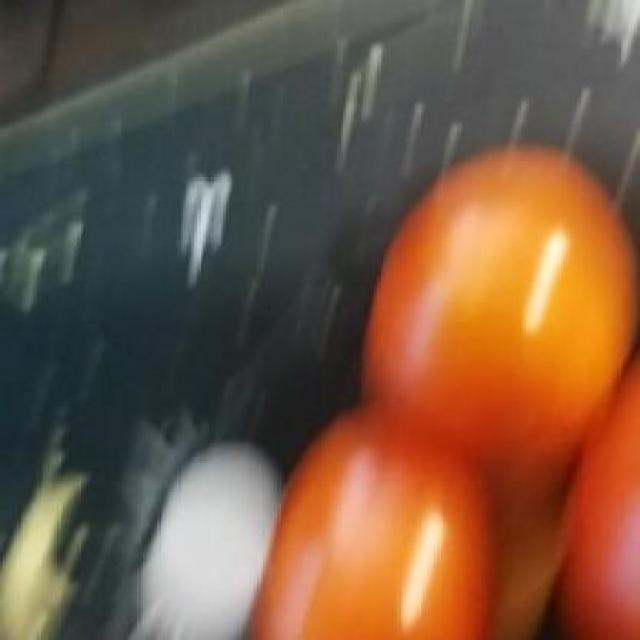Fresh Tomato: (376, 140, 635, 464), (240, 424, 507, 640), (555, 375, 640, 640)
